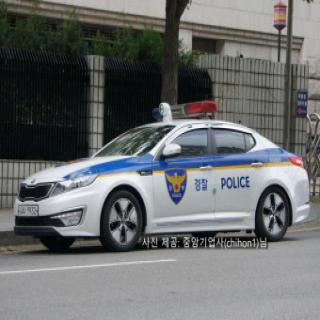Police_car: (12, 99, 311, 253)
